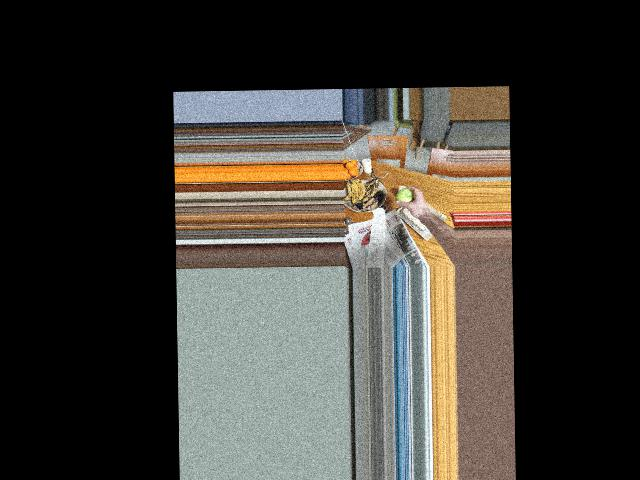apple: (395, 186, 418, 206)
